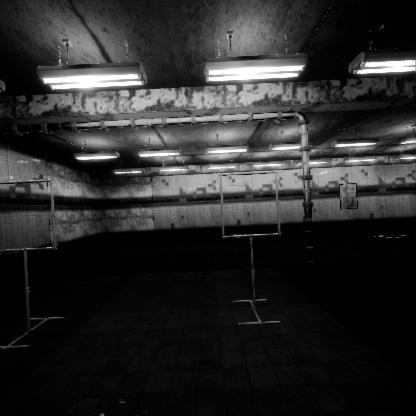gate: (219, 177, 285, 245)
